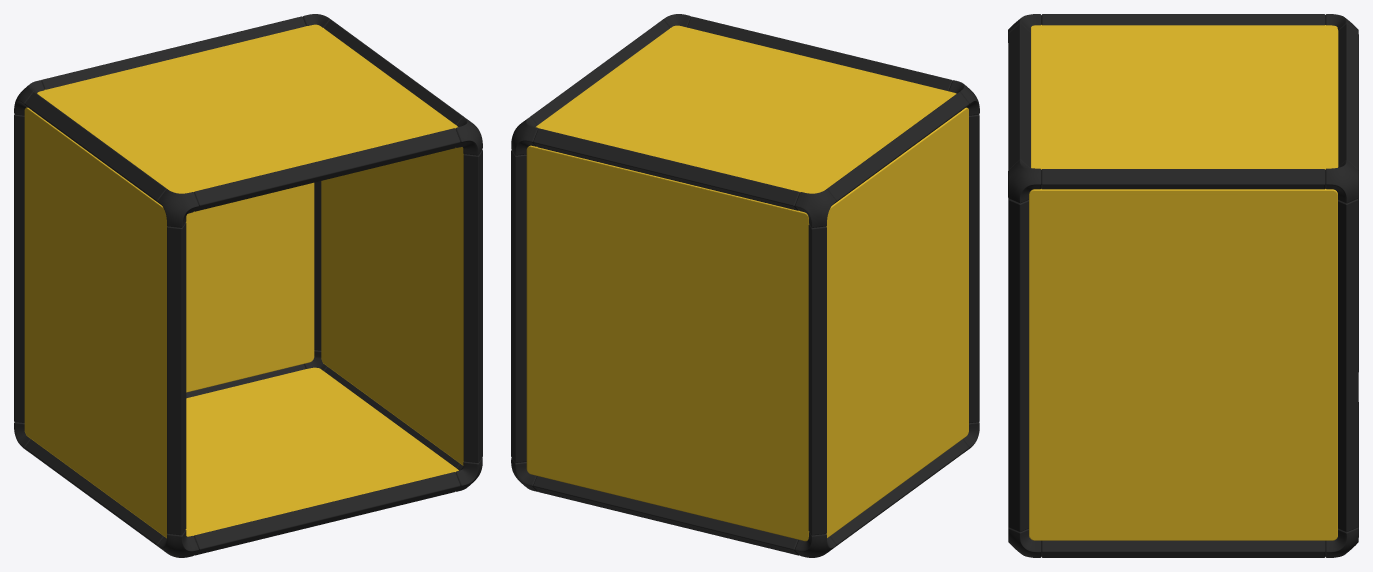
3 views of the same model, side by side, from view 1: azimuth 30°, elevation 25°; view 2: azimuth 150°, elevation 25°; view 3: azimuth 270°, elevation 25° (orthographic). The views are drawn at different scales.
Parts seen in each view (by area): view 1: 374x329x420; view 2: 374x329x420; view 3: 374x329x420.
Part boxes in pixels (<box>): 374x329x420: <box>14,14,482,557</box>; 374x329x420: <box>511,14,979,557</box>; 374x329x420: <box>1008,14,1358,557</box>.
Bounding box in the file's own units: 0.4517 × 0.4976 × 0.4063.
